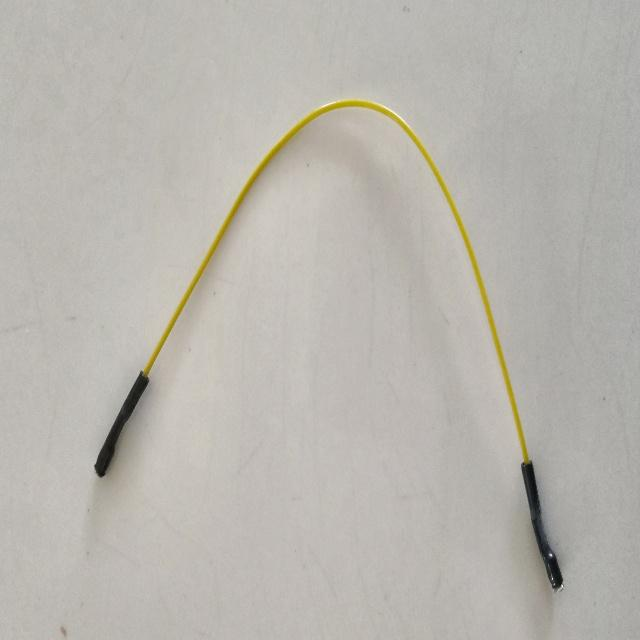BNC Cables Both Clips: (73, 25, 601, 603)
